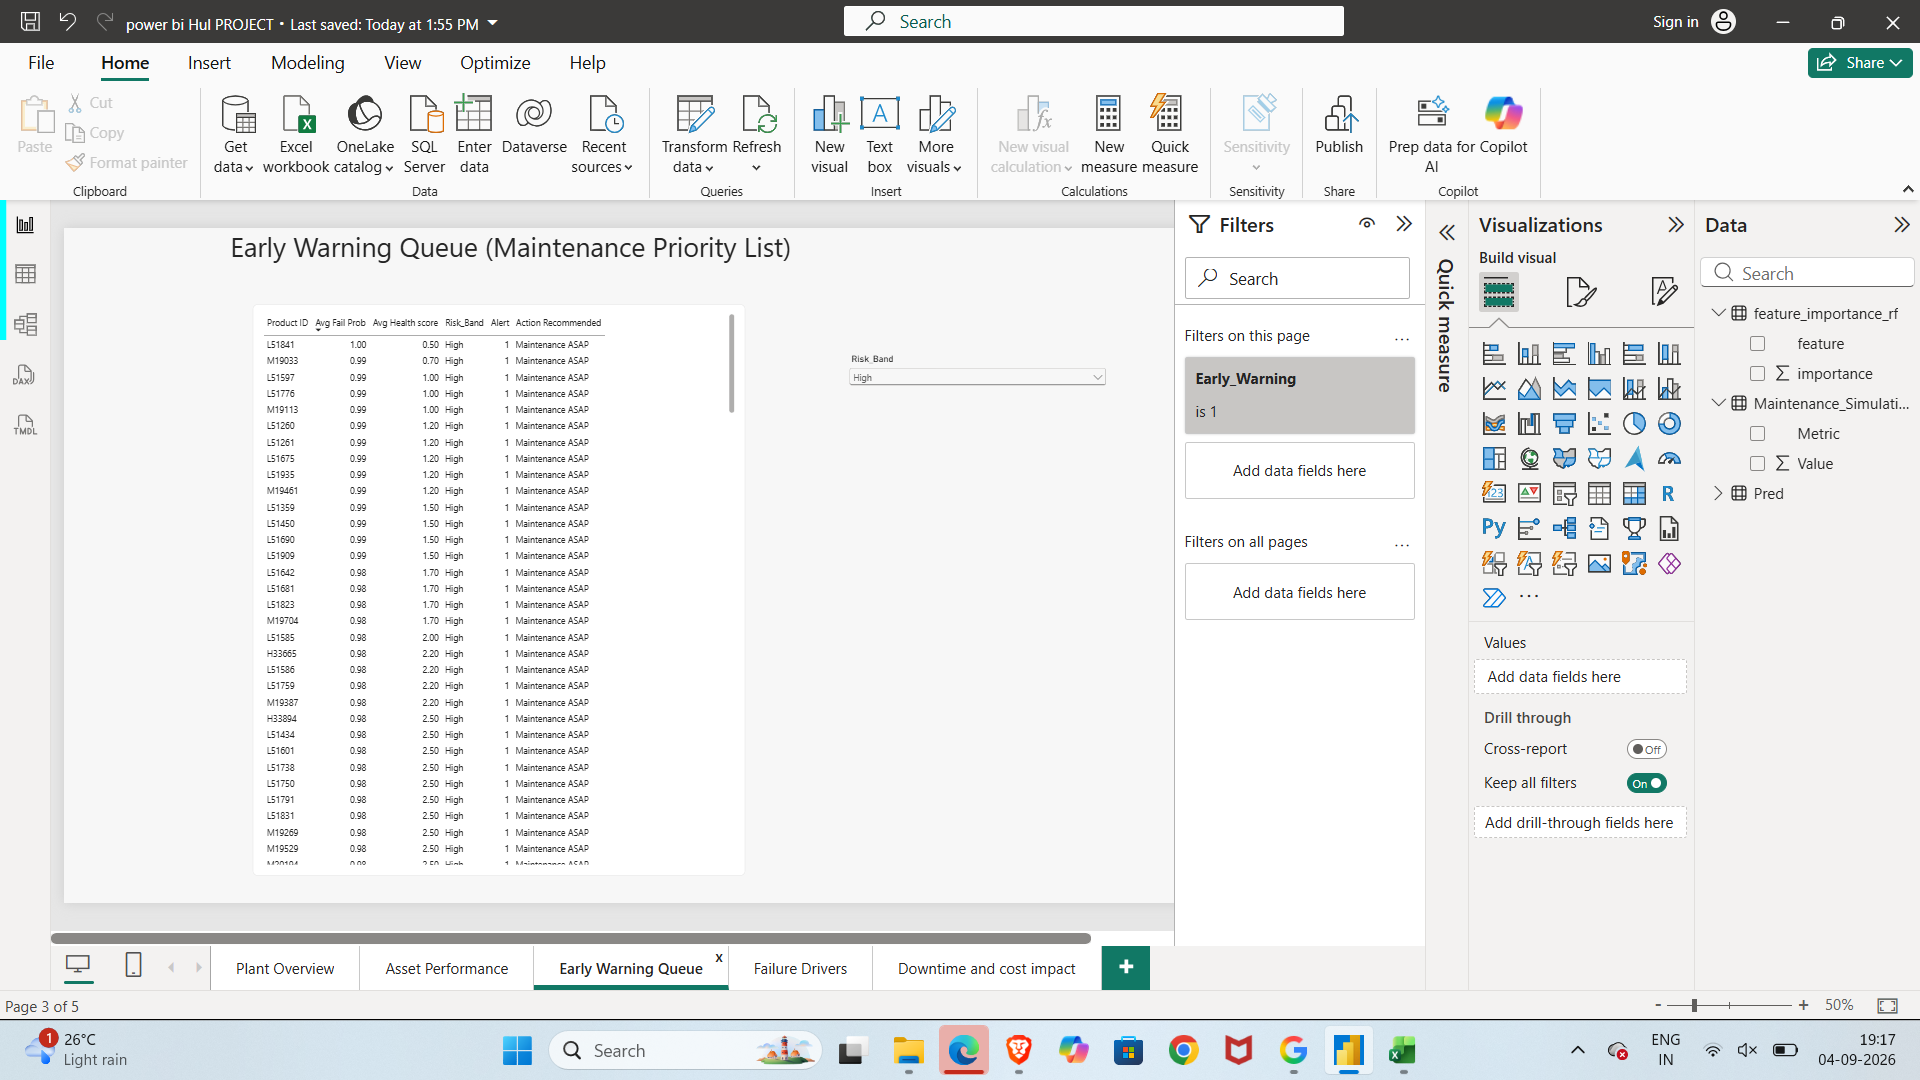

The dashboard page shown, as its layout file describes it:
{"tool":"powerbi","page":{"name":"Early Warning Queue","canvas":[1920,1080],"ordinal":2},"visuals":[{"type":"tableEx","fields":{"Values":["Pred.Product ID","Avg(Pred.Failure_Probability)","Avg(Pred.Health_Score)","Pred.Risk_Band","Sum(Pred.Early_Warning)","Pred.Action Recommended"]},"box":[302,122,788,914],"z":0},{"type":"slicer","fields":{"Values":["Pred.Risk_Band"]},"box":[1252,200,420,258],"z":1000},{"type":"textbox","box":[266,0,1088,86],"z":2000}]}

Visuals, with their boxes on the page's 1920x1080 design canvas (x1, y1, x2, y2). These are canvas units, not pixel positions in the 1920x1080 screenshot, which may show the page scaled, cropped or inside an application window:
tableEx - Pred.Product ID x Avg(Pred.Failure_Probability): Rect(302, 122, 1090, 1036)
slicer - Pred.Risk_Band: Rect(1252, 200, 1672, 458)
textbox: Rect(266, 0, 1354, 86)
